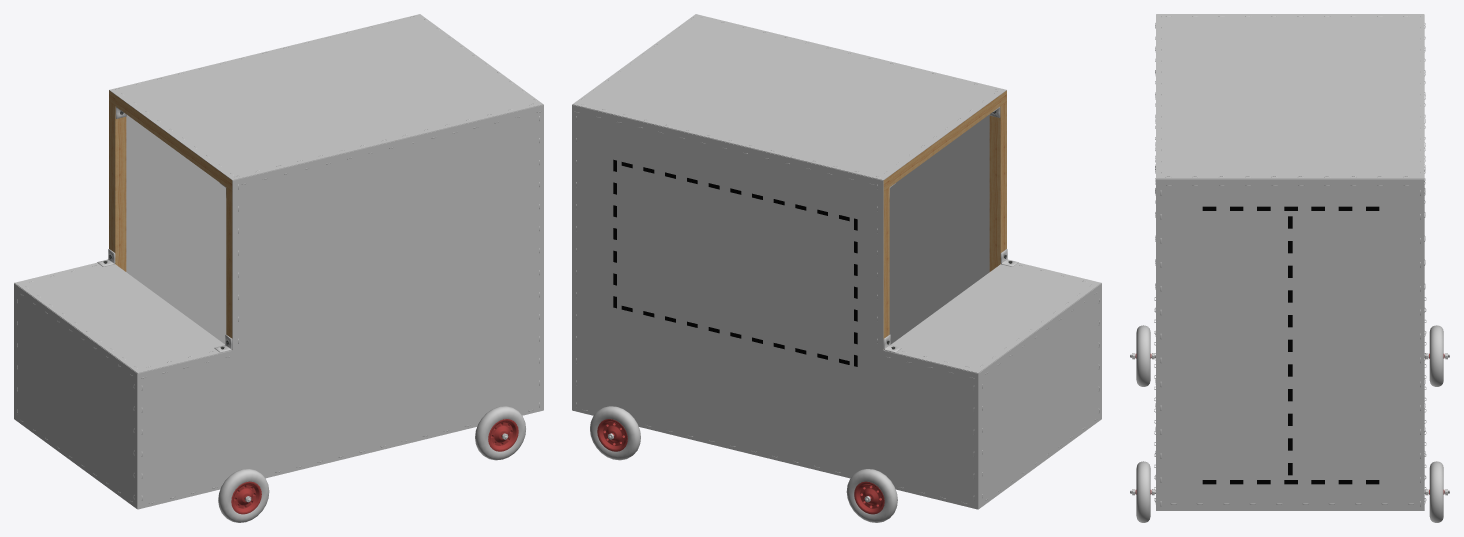
The picture shows the model from 3 angles, left to right: view 1: azimuth 30°, elevation 25°; view 2: azimuth 150°, elevation 25°; view 3: azimuth 270°, elevation 25°; orthographic projection. The views are drawn at different scales.
Parts seen in each view (by area): view 1: Плоскость, Плоскость.003, Плоскость.005, Плоскость.012, Плоскость.004, Куб.012, Wheel_Tire_0.002, Wheel_Tire_0.016, Куб.006, Куб.002, Wheel_PMetal_0.016, Wheel_PMetal_0.002; view 2: Плоскость.012, Плоскость.003, Плоскость.005, Плоскость, Плоскость.004, Куб.002, Wheel_Tire_0.003, Wheel_Tire_0.001, Куб.006, Куб.012, Wheel_PMetal_0.001, Wheel_PMetal_0.003; view 3: Плоскость.013, Плоскость.003, Wheel_Tire_0.001, Wheel_Tire_0.003, Wheel_Tire_0.016, Wheel_Tire_0.002, Куб.416, Плоскость, Плоскость.012, Куб.417, Куб.418.
Part boxes in pixels (left/top/right/bottom): Плоскость: left=138, top=104, right=543, bottom=509; Плоскость.003: left=109, top=14, right=543, bottom=180; Плоскость.005: left=14, top=283, right=137, bottom=509; Плоскость.012: left=126, top=115, right=226, bottom=344; Плоскость.004: left=14, top=262, right=232, bottom=373; Куб.012: left=109, top=102, right=126, bottom=271; Wheel_Tire_0.002: left=475, top=406, right=525, bottom=460; Wheel_Tire_0.016: left=218, top=469, right=269, bottom=522; Куб.006: left=115, top=95, right=226, bottom=186; Куб.002: left=226, top=187, right=232, bottom=338; Wheel_PMetal_0.016: left=231, top=481, right=261, bottom=514; Wheel_PMetal_0.002: left=488, top=419, right=518, bottom=451; Плоскость.012: left=572, top=104, right=978, bottom=509; Плоскость.003: left=572, top=14, right=1006, bottom=180; Плоскость.005: left=978, top=283, right=1101, bottom=509; Плоскость: left=889, top=115, right=989, bottom=344; Плоскость.004: left=883, top=262, right=1101, bottom=373; Куб.002: left=989, top=102, right=1006, bottom=271; Wheel_Tire_0.003: left=590, top=406, right=640, bottom=460; Wheel_Tire_0.001: left=846, top=469, right=897, bottom=522; Куб.006: left=889, top=95, right=1000, bottom=186; Куб.012: left=883, top=187, right=889, bottom=338; Wheel_PMetal_0.001: left=854, top=481, right=884, bottom=514; Wheel_PMetal_0.003: left=597, top=419, right=627, bottom=451; Плоскость.013: left=1156, top=179, right=1423, bottom=510; Плоскость.003: left=1156, top=14, right=1423, bottom=178; Wheel_Tire_0.001: left=1429, top=325, right=1443, bottom=386; Wheel_Tire_0.003: left=1429, top=461, right=1443, bottom=522; Wheel_Tire_0.016: left=1136, top=325, right=1150, bottom=386; Wheel_Tire_0.002: left=1136, top=461, right=1150, bottom=522; Куб.416: left=1288, top=216, right=1292, bottom=475; Плоскость: left=1156, top=14, right=1156, bottom=510; Плоскость.012: left=1424, top=14, right=1424, bottom=510; Куб.417: left=1202, top=480, right=1379, bottom=484; Куб.418: left=1202, top=206, right=1379, bottom=210.
Bounding box in the file's own units: 3.02 × 2.4 × 1.89.
